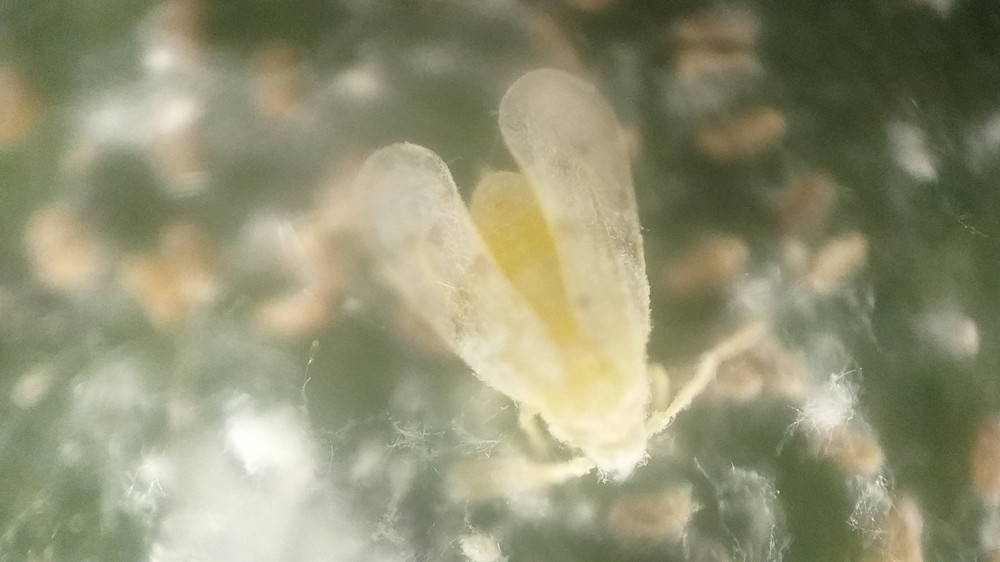Mosca Blanca: (336, 67, 772, 519)
